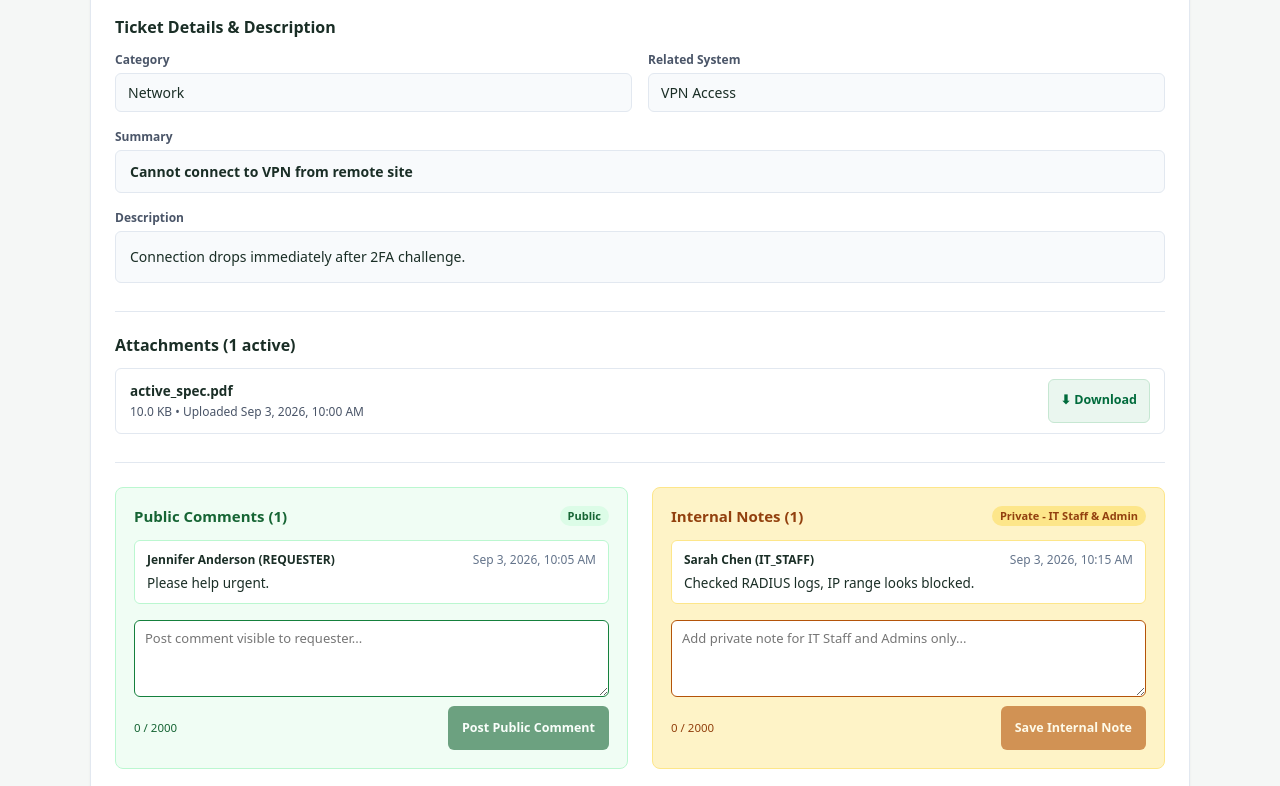
Test: UI-05, UI-06, UI-09: Staff Ticket Detail Operations Component › handles attachment download error with 403 ATTACHMENT_REMOVED, shows safe callout, and refreshes ticket metadata
(page scrolled)
Click the button with test id "btn-staff-download-11" at (1099, 401), box [1048,379,1150,423]
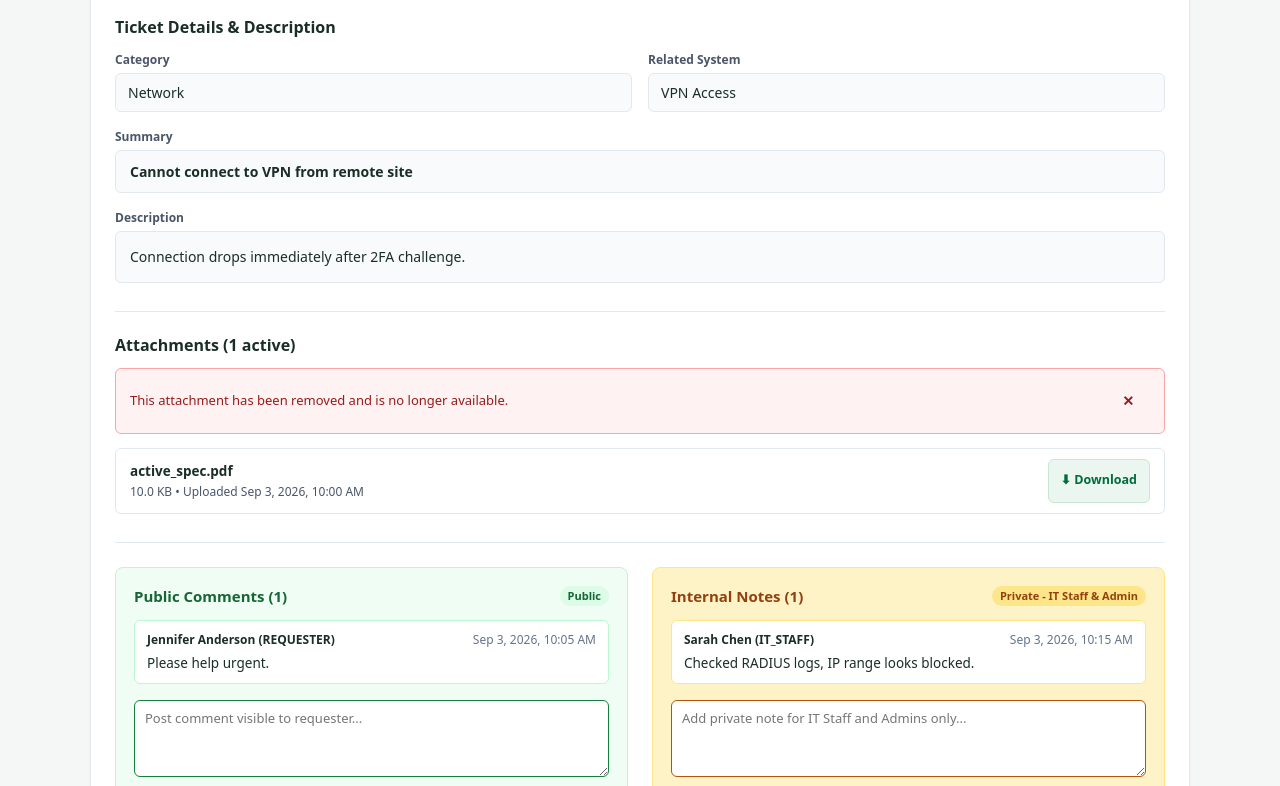
Result: the message with test id "attachment-download-error" shows "This attachment has been removed and is no longer available" at [130,391,508,409]
